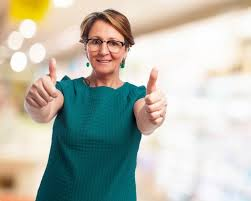thumbs_up: (134, 69, 175, 134), (26, 56, 64, 120)
